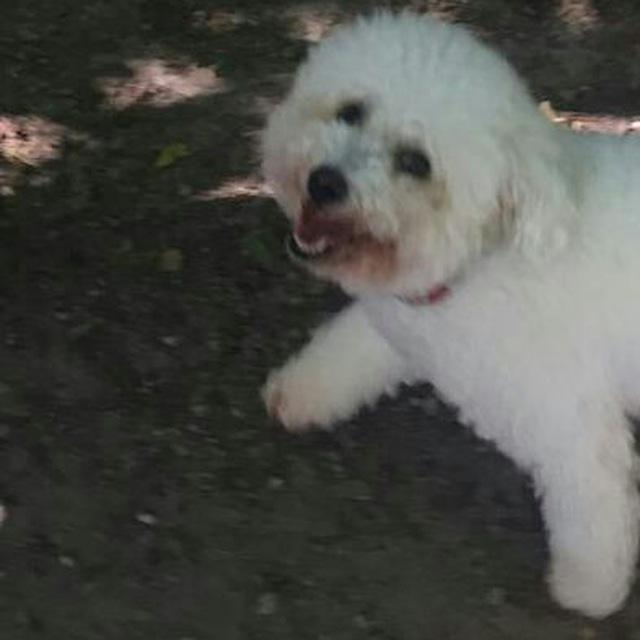dog: (230, 7, 640, 626)
